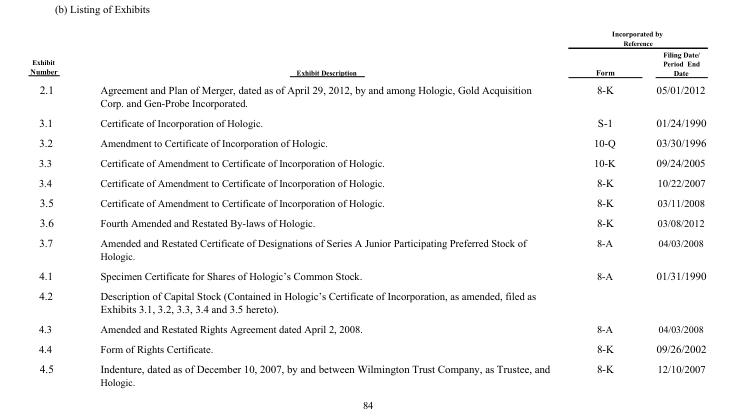table: (29, 28, 705, 387)
table column: (78, 28, 571, 387), (635, 28, 705, 387), (571, 28, 635, 387), (29, 28, 78, 387)
table column header: (29, 28, 705, 79)
table row: (29, 79, 705, 112), (29, 232, 705, 265), (29, 285, 705, 318), (29, 48, 705, 79), (29, 357, 705, 387), (29, 28, 705, 48), (29, 112, 705, 132), (29, 132, 705, 152), (29, 152, 705, 172), (29, 172, 705, 192), (29, 192, 705, 212), (29, 212, 705, 232), (29, 265, 705, 285), (29, 318, 705, 338), (29, 338, 705, 357)
table spanning cell: (78, 28, 571, 79), (571, 28, 705, 48), (29, 28, 78, 79)
